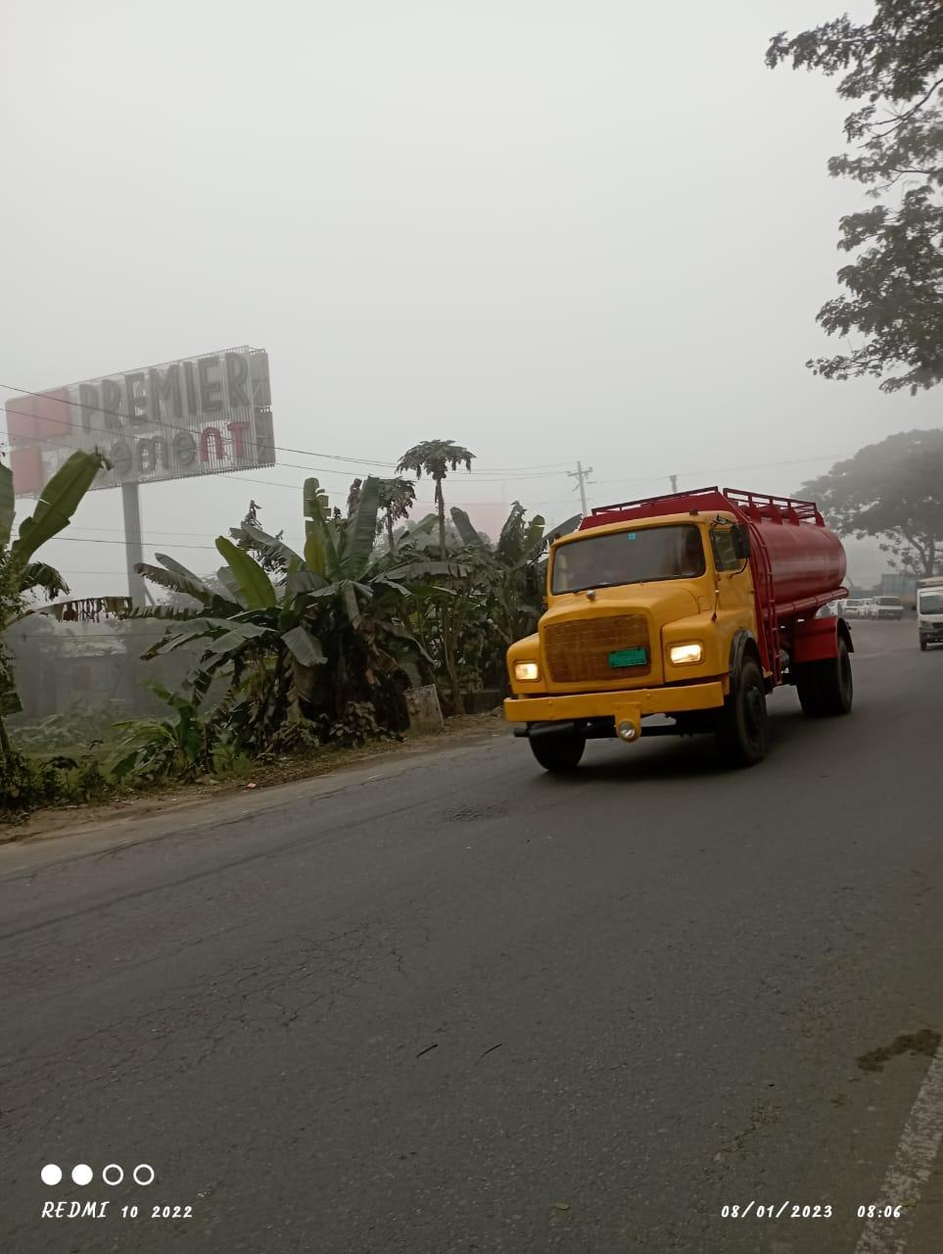Car: (906, 569, 943, 657)
Truck: (479, 475, 867, 769)
